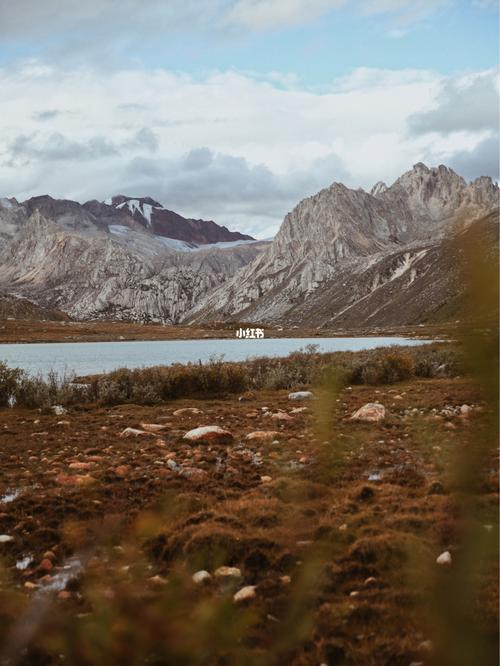mountain: (9, 155, 499, 351)
